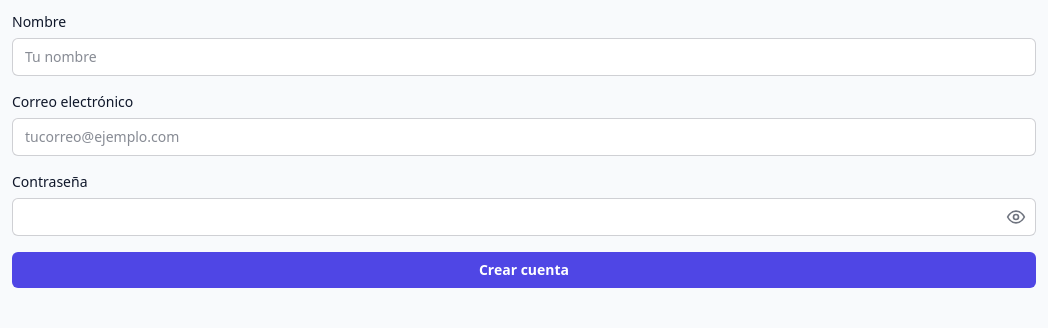
Test case: FormularioRegistro › con un correo mal escrito muestra el mensaje de correo inválido
Type "Ana Pérez" into the field labelled "Nombre" at (524, 57), box [12, 38, 1036, 76]
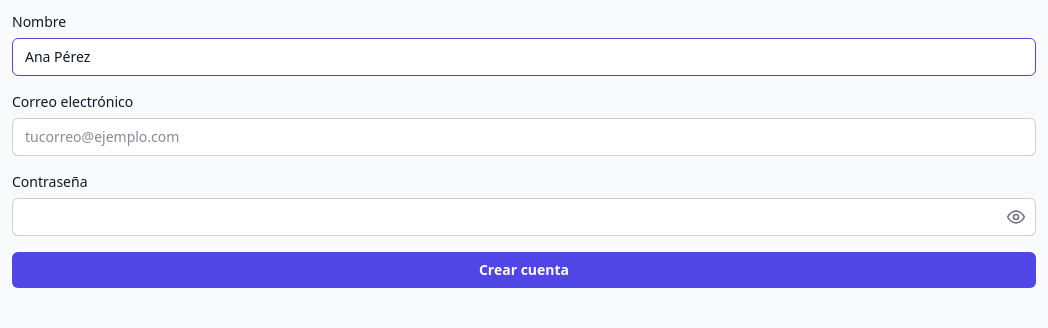
Type "sin-arroba" into the field labelled "Correo electrónico" at (524, 137), box [12, 118, 1036, 156]
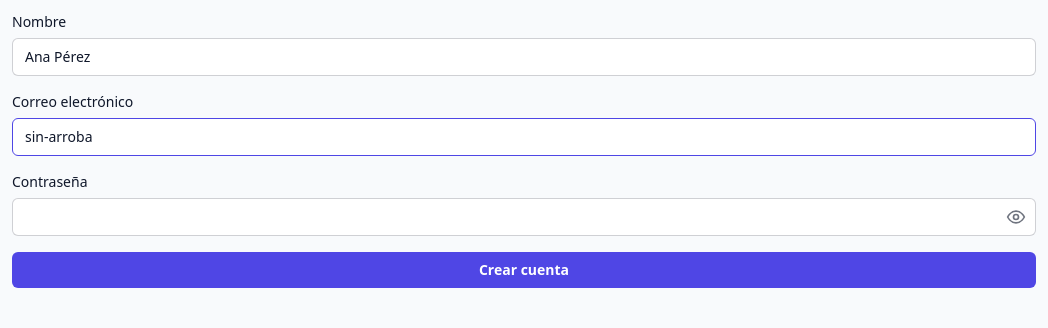
Type "clave-de-ejemplo" into the password field labelled "Contraseña" at (524, 217), box [12, 198, 1036, 236]
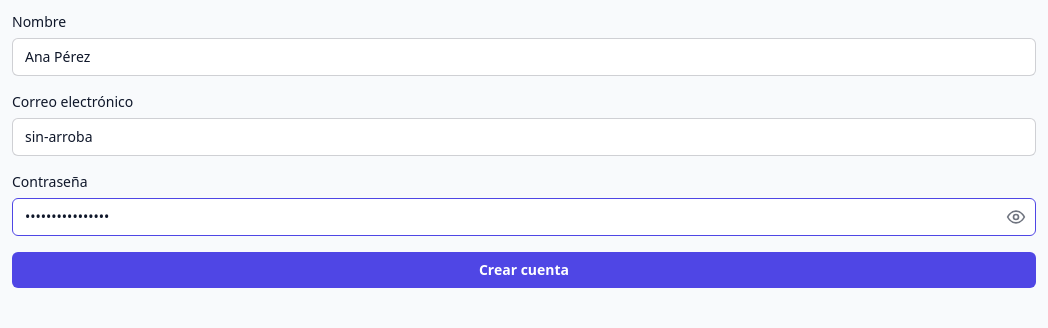
Click the button "Crear cuenta" at (524, 270), box [12, 252, 1036, 288]
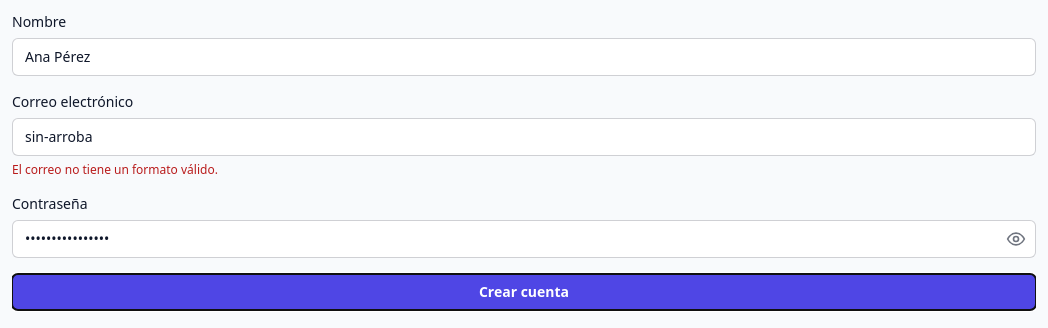
Expected: the text "El correo no tiene un formato válido." is shown, [12, 161, 218, 178]
